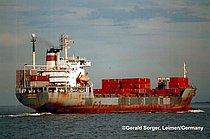Ship: (14, 31, 200, 117)
